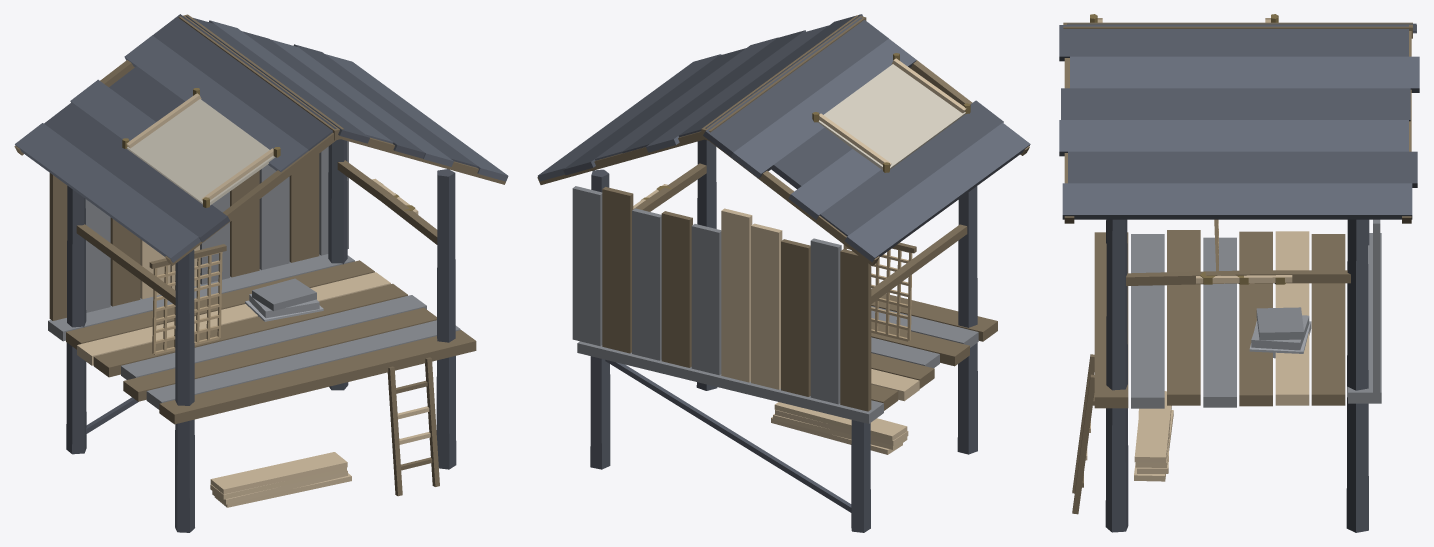
Rendered from net_loft_mended.glb.
3 views of the same model, side by side, from view 1: azimuth 30°, elevation 25°; view 2: azimuth 150°, elevation 25°; view 3: azimuth 270°, elevation 25° (orthographic). The views are drawn at different scales.
Visible parts, largest first — view 1: driftwood_d35, slate_d20, slate_d5, silverfog_d30, driftwood_l15, bone_d12, driftwood_d5, silverfog_d31, silverfog_d23; view 2: slate_d20, driftwood_d35, silverfog_d30, slate_d5, driftwood_l15, bone_d12, driftwood_d5; view 3: slate_d20, slate_d5, driftwood_d35, silverfog_d30, driftwood_l15, silverfog_d31, silverfog_d23, kindle_d45.
Boxes of the visible parts, x1,y1,x2,y2 form: driftwood_d35: (14,14,506,496); slate_d20: (44,14,477,532); slate_d5: (15,20,508,262); silverfog_d30: (48,141,460,409); driftwood_l15: (77,93,430,507); bone_d12: (127,99,275,205); driftwood_d5: (152,252,222,354); silverfog_d31: (252,278,316,311); silverfog_d23: (249,294,319,318); slate_d20: (563,14,1003,532); driftwood_d35: (537,15,1029,411); silverfog_d30: (572,186,978,423); slate_d5: (538,25,1030,262); driftwood_l15: (633,58,966,454); bone_d12: (818,64,965,169); driftwood_d5: (843,244,912,341); slate_d20: (1059,23,1417,532); slate_d5: (1059,25,1419,219); driftwood_d35: (1063,22,1412,514); silverfog_d30: (1131,219,1381,408); driftwood_l15: (1085,18,1309,481); silverfog_d31: (1256,307,1303,340); silverfog_d23: (1251,315,1309,350); kindle_d45: (1090,14,1286,284).
Bounding box in the file's own units: 3.64 × 3.96 × 2.99.
